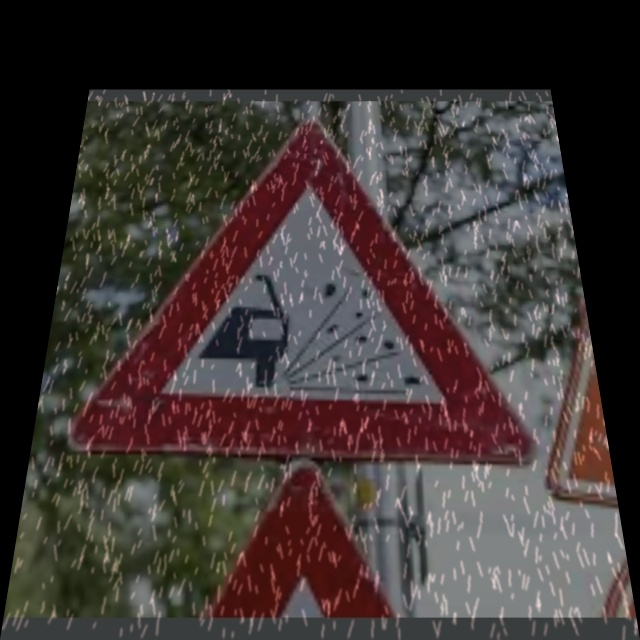Loose_Gravel: (82, 121, 536, 461)
